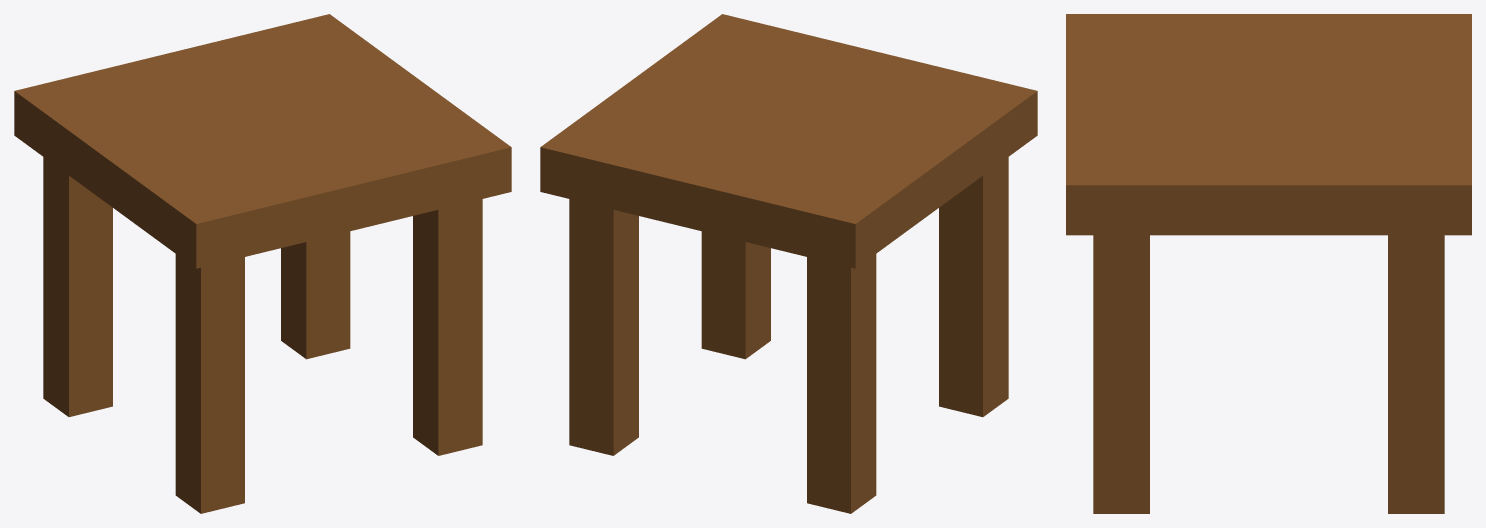
File: Table.glb
The picture shows the model from 3 angles, left to right: view 1: azimuth 30°, elevation 25°; view 2: azimuth 150°, elevation 25°; view 3: azimuth 270°, elevation 25°; orthographic projection. The views are drawn at different scales.
Visible parts, largest first — view 1: Table, Table Legs; view 2: Table, Table Legs; view 3: Table, Table Legs.
Part boxes in pixels (box(x1,y1,x2,y2)): Table: box(14, 14, 511, 268); Table Legs: box(43, 157, 482, 513); Table: box(540, 14, 1037, 268); Table Legs: box(569, 157, 1008, 513); Table: box(1066, 14, 1471, 235); Table Legs: box(1093, 235, 1444, 513).
Bounding box in the file's own units: 2.5 × 2.3 × 2.5.
